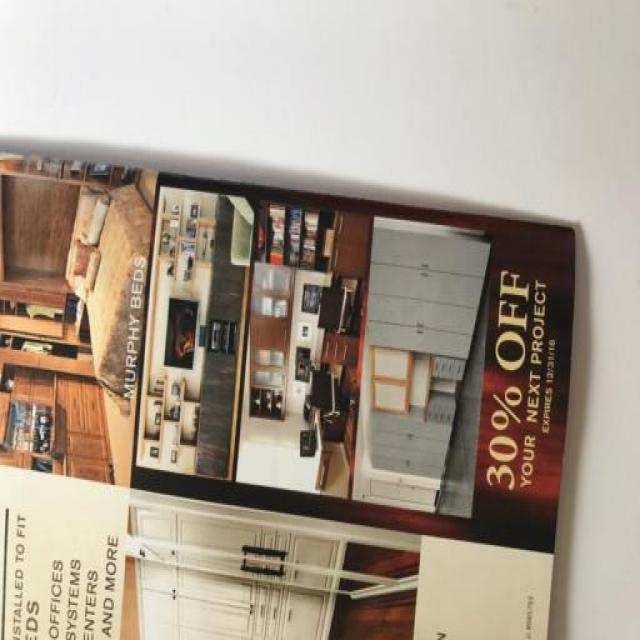paper: (1, 139, 604, 640)
